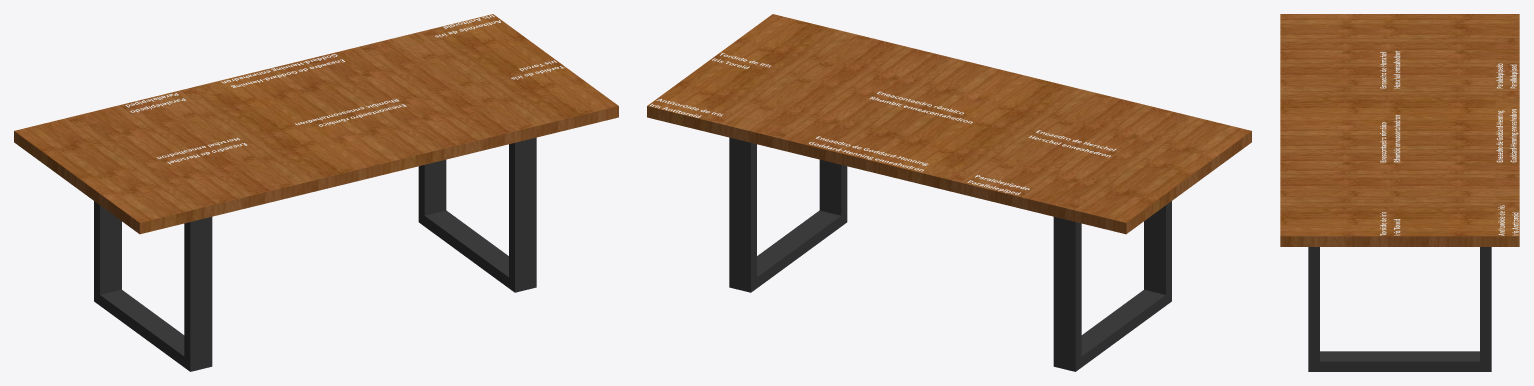
Rendered from mesa_Prisms3.glb.
3 renders of one model, left to right at view 1: azimuth 30°, elevation 25°; view 2: azimuth 150°, elevation 25°; view 3: azimuth 270°, elevation 25°, orthographic. The views are drawn at different scales.
Visible parts, largest first — view 1: object 1, Composant#1 (×2), Eneaedro de Godd; view 2: object 1, Composant#1 (×2), Eneaedro de Godd; view 3: object 1, Composant#1, Eneaedro de Godd, Eneacontaedro rô, Eneaedro de Hers, Antitoróide de í, Paralelepípedo P.
Boxes of the visible parts, box(x1,y1,x2,y2) form: object 1: box(14, 14, 618, 234); Composant#1 (×2): box(94, 137, 536, 371); Eneaedro de Godd: box(221, 54, 344, 87); object 1: box(647, 14, 1251, 234); Composant#1 (×2): box(729, 137, 1171, 371); Eneaedro de Godd: box(809, 136, 928, 171); object 1: box(1280, 14, 1519, 246); Composant#1: box(1308, 247, 1491, 371); Eneaedro de Godd: box(1496, 109, 1518, 162); Eneacontaedro rô: box(1380, 115, 1400, 162); Eneaedro de Hers: box(1380, 51, 1400, 88); Antitoróide de í: box(1498, 205, 1518, 235); Paralelepípedo P: box(1496, 63, 1518, 88).
Size of the model in its own units: 2.2 by 0.771 by 1.
Materials: 3 (1 with a texture image).
